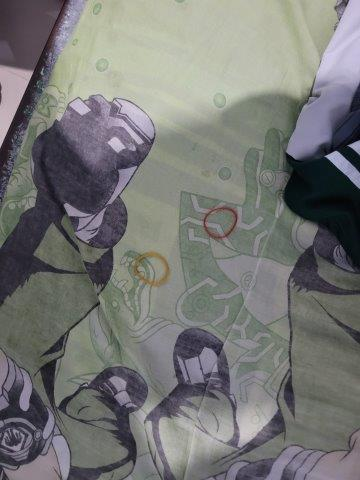karet: (133, 251, 171, 286), (203, 207, 238, 239)
